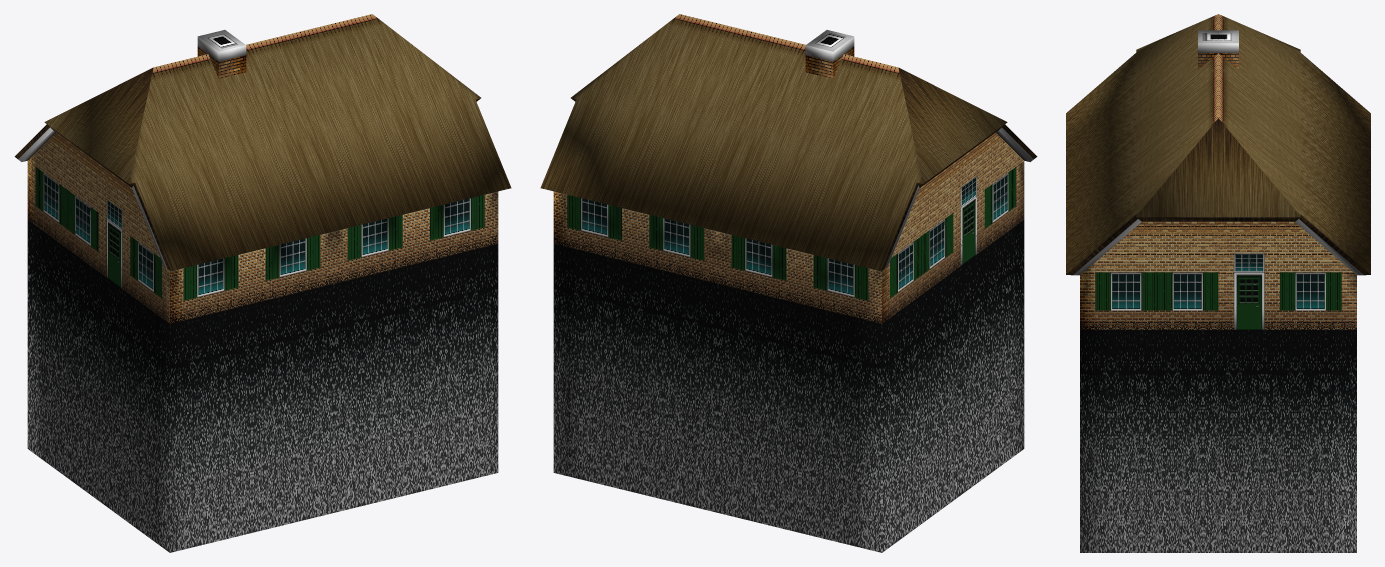
File: boerderij_mod1_1a.fbx
The picture shows the model from 3 angles, left to right: view 1: azimuth 30°, elevation 25°; view 2: azimuth 150°, elevation 25°; view 3: azimuth 270°, elevation 25°; orthographic projection. The views are drawn at different scales.
Visible parts, largest first — view 1: boerderij_mod1_1a; view 2: boerderij_mod1_1a; view 3: boerderij_mod1_1a.
Boxes of the visible parts, x1,y1,x2,y2 form: boerderij_mod1_1a: (14,14,511,552); boerderij_mod1_1a: (540,14,1037,552); boerderij_mod1_1a: (1066,14,1370,552).
Bounding box in the file's own units: 1450 × 1690 × 1115.
